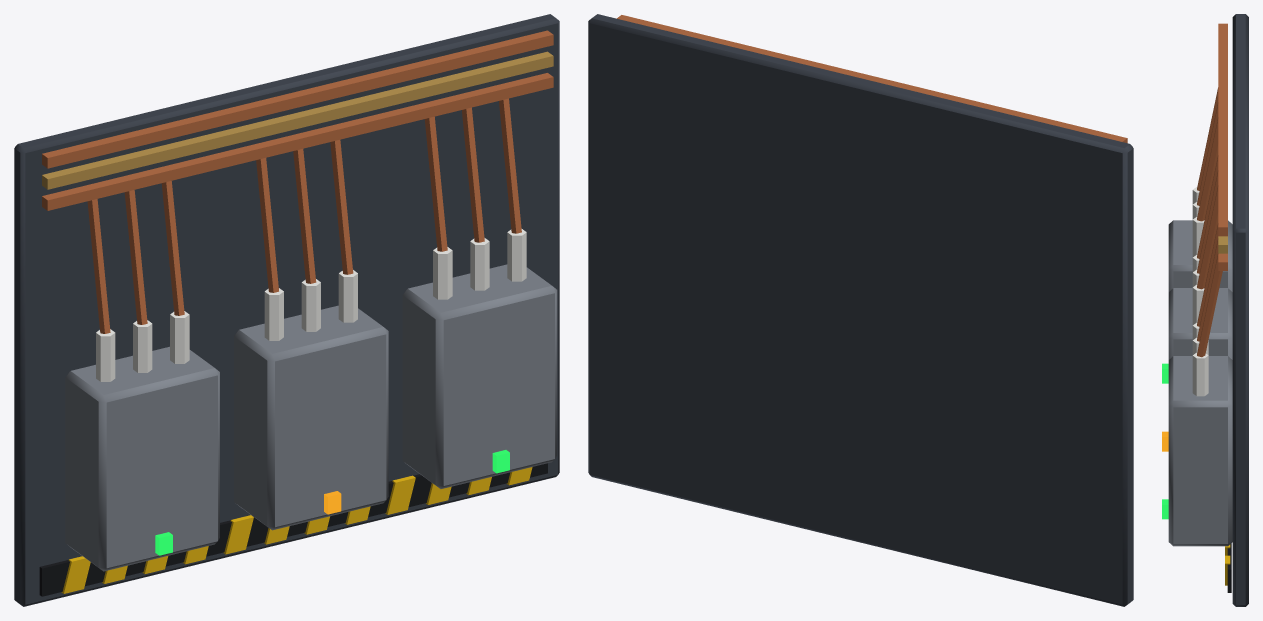
The model's file is generator_wall_substation.glb.
3 renders of one model, left to right at view 1: azimuth 30°, elevation 25°; view 2: azimuth 150°, elevation 25°; view 3: azimuth 270°, elevation 25°, orthographic. The views are drawn at different scales.
Parts seen in each view (by area): view 1: generator_wall_substation; view 2: generator_wall_substation; view 3: generator_wall_substation.
Part boxes in pixels (<box>): generator_wall_substation: <box>14,14,559,606</box>; generator_wall_substation: <box>588,14,1133,606</box>; generator_wall_substation: <box>1162,14,1248,606</box>.
Size of the model in its own units: 1.6 by 1.3 by 0.27.
